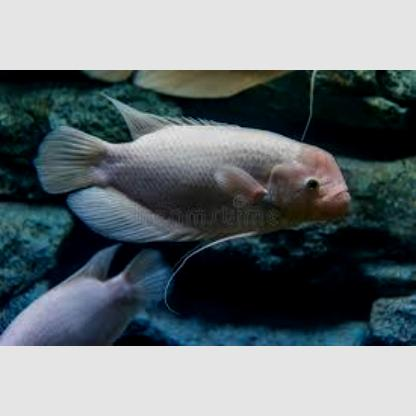gurame: (34, 108, 354, 240), (0, 236, 172, 343)
